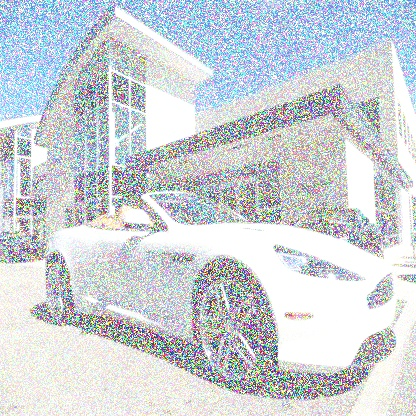Vehicle: (43, 189, 398, 392)
